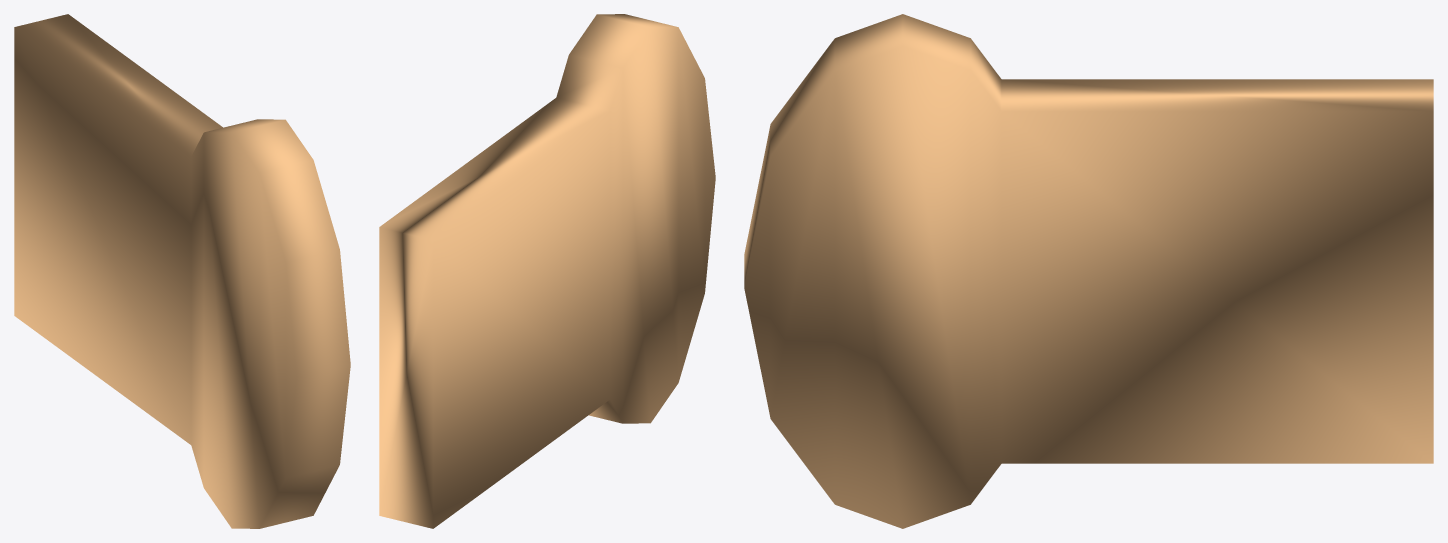
The model's file is slice_core.obj.
3 views of the same model, side by side, from view 1: azimuth 30°, elevation 25°; view 2: azimuth 150°, elevation 25°; view 3: azimuth 270°, elevation 25° (orthographic). The views are drawn at different scales.
Visible parts, largest first — view 1: bread.001; view 2: bread.001; view 3: bread.001.
Part boxes in pixels (x1,y1,x2,y2): bread.001: (14, 14, 350, 528); bread.001: (379, 14, 715, 528); bread.001: (744, 14, 1433, 528).
Bounding box in the file's own units: 0.0149 × 0.1042 × 0.1349.
